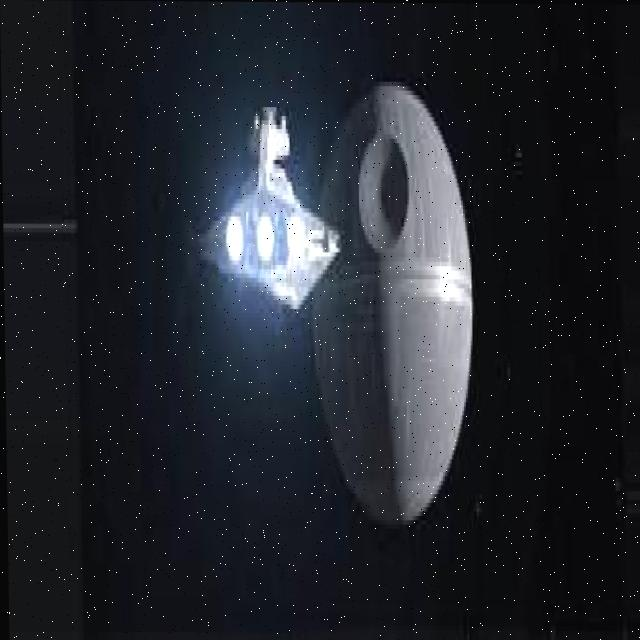deathstar: (310, 85, 474, 523)
